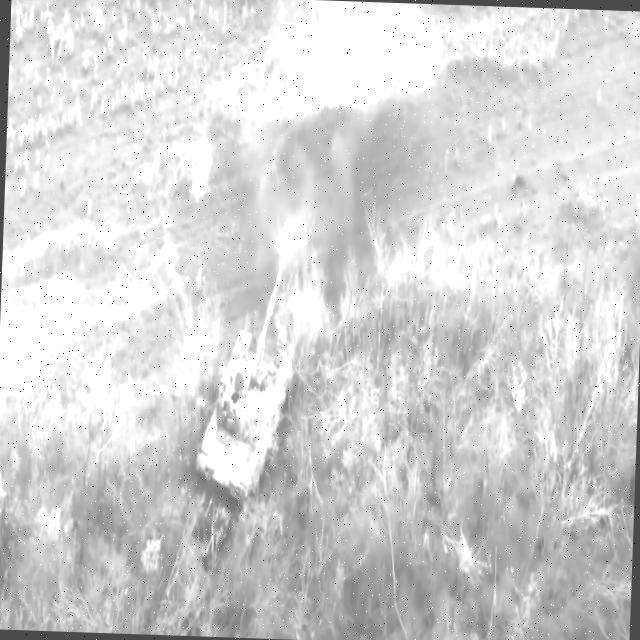MBT: (192, 240, 302, 513)
